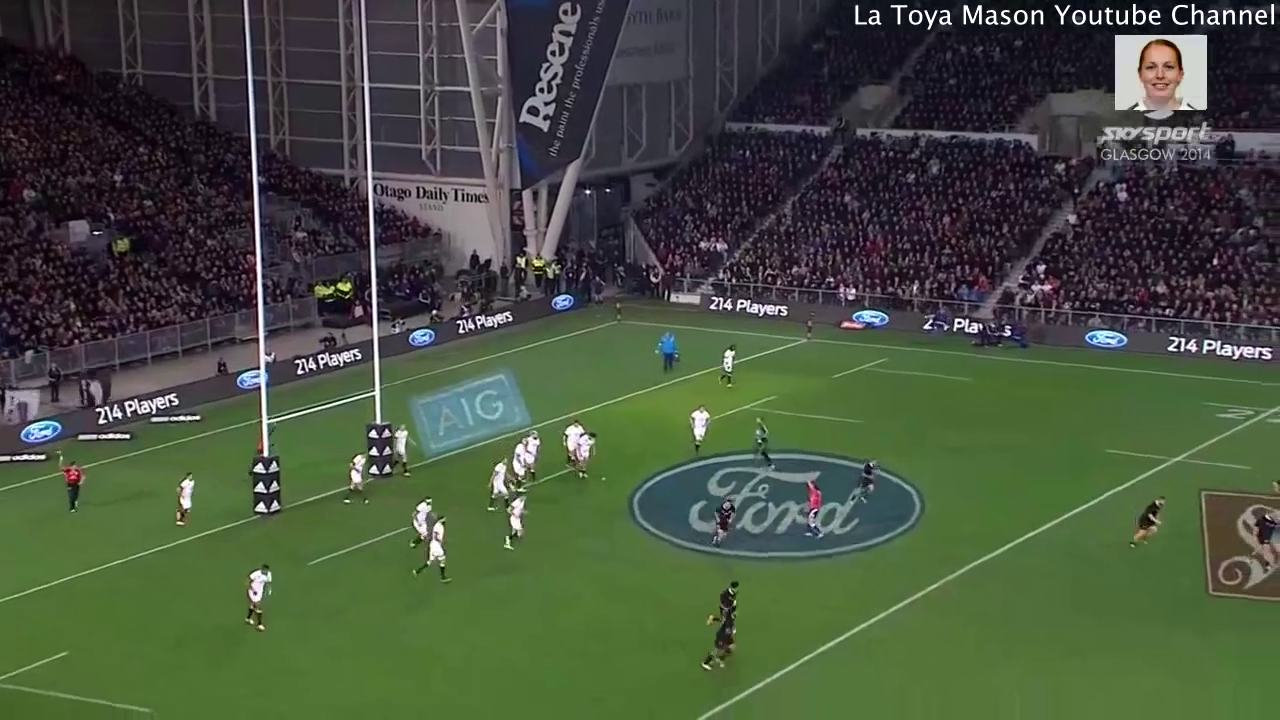player: (411, 508, 457, 594), (698, 606, 742, 681), (237, 556, 275, 639), (53, 445, 92, 522), (701, 574, 750, 629), (337, 444, 376, 510), (744, 410, 777, 488), (702, 488, 736, 562), (1126, 489, 1163, 557), (481, 444, 513, 519), (401, 487, 438, 551), (795, 476, 829, 544), (497, 494, 535, 552), (849, 452, 885, 513), (649, 327, 685, 385), (684, 396, 713, 462), (573, 426, 602, 490), (170, 467, 197, 532), (389, 420, 417, 481), (558, 410, 581, 480), (509, 433, 535, 494), (519, 423, 541, 489), (715, 335, 738, 395)
post: (229, 1, 404, 528)
